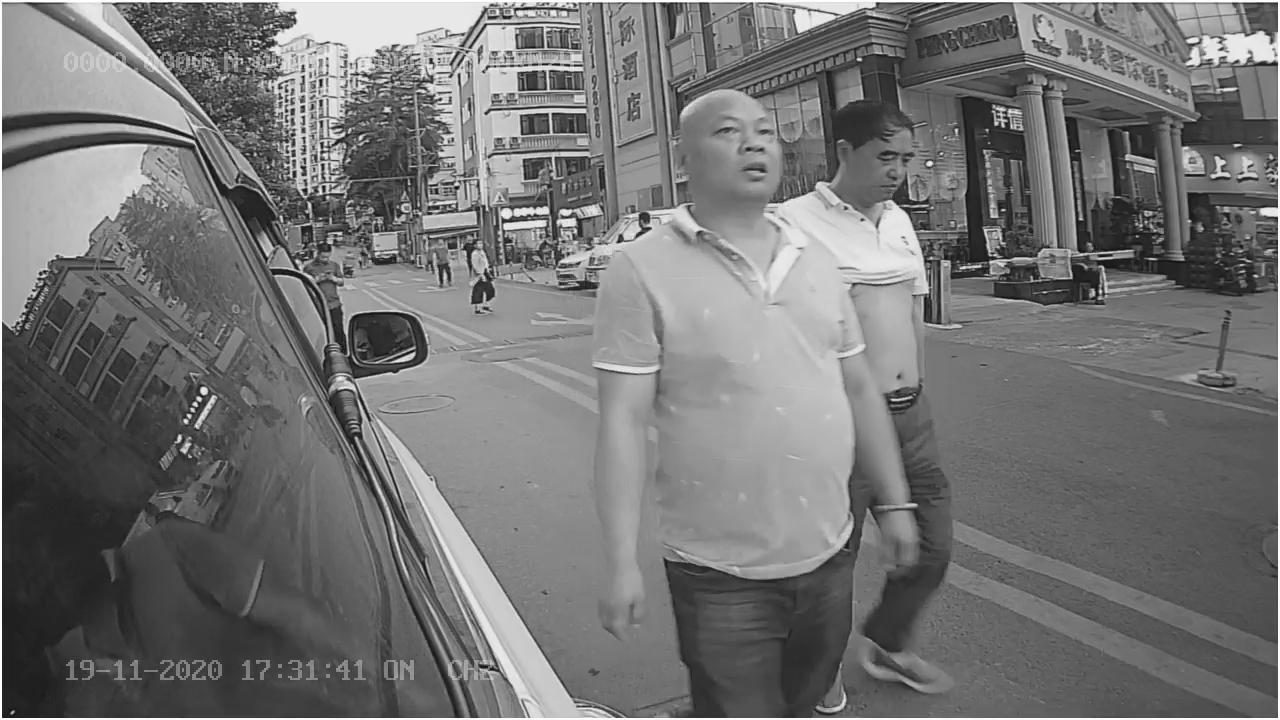person: (602, 101, 835, 608)
